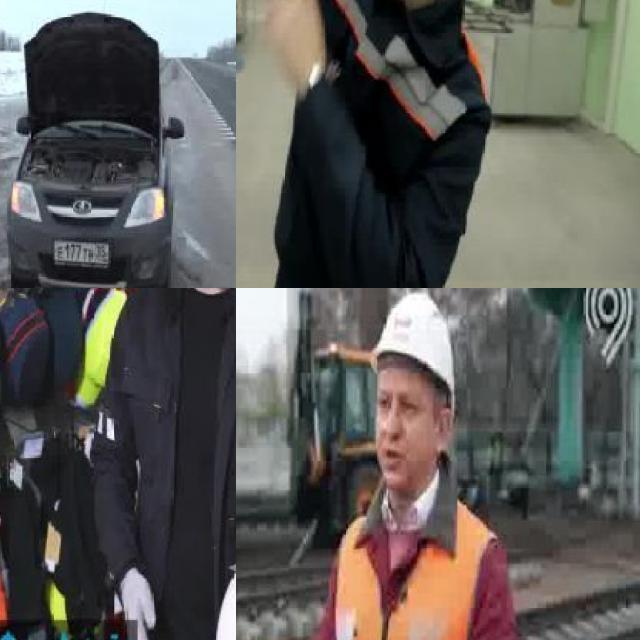apron: (120, 561, 171, 640)
